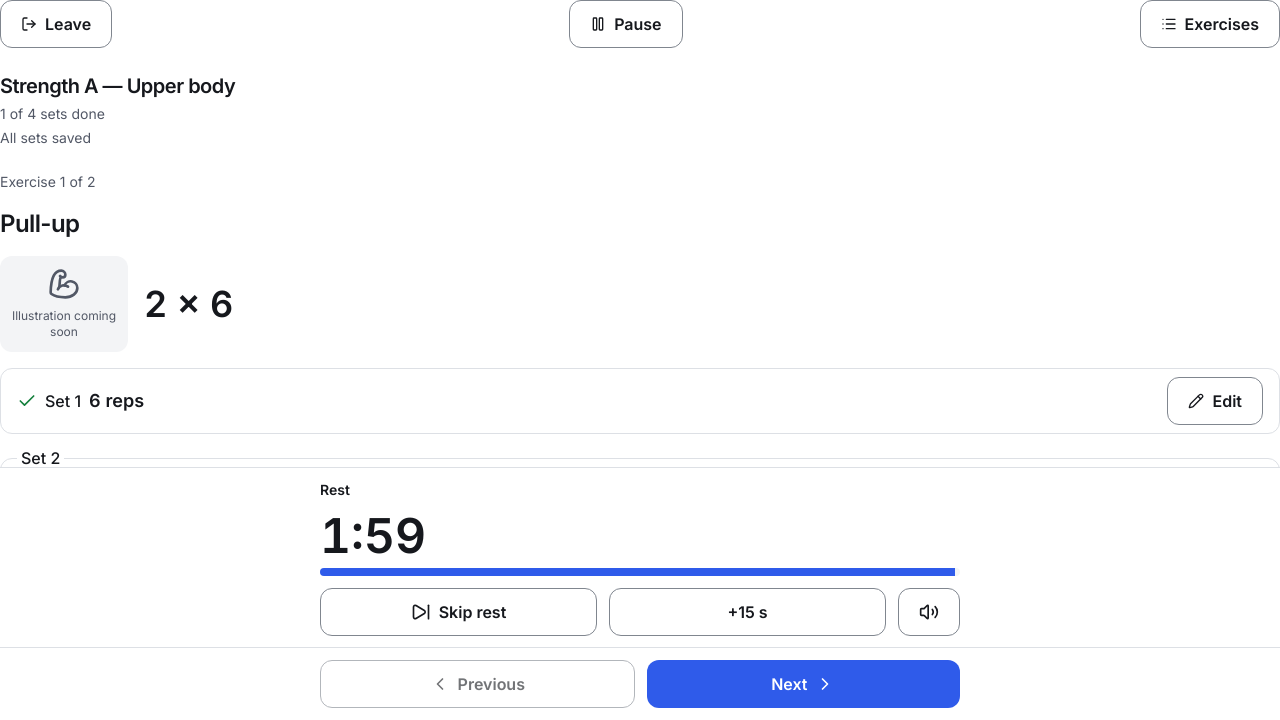
Test: WorkoutScreen through the outbox (P4-05, D89) › D104: a finish kept apart by the server says why
What coordinates should you click on to do the following:
click the button "Leave"
I would click on:
 (56, 24)
Its box is x1=0 y1=0 x2=112 y2=48.
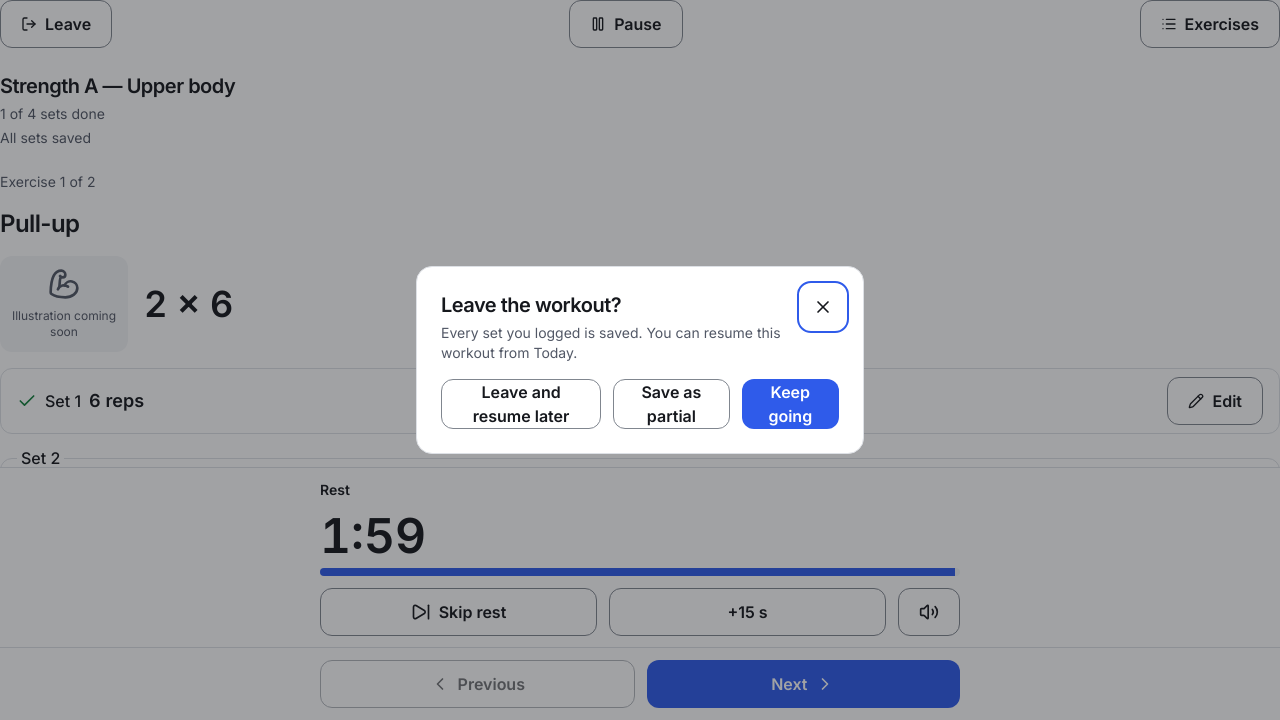
What coordinates should you click on to do the following:
click the button "Save as partial"
I would click on:
 (671, 404)
Its box is x1=613 y1=379 x2=730 y2=429.
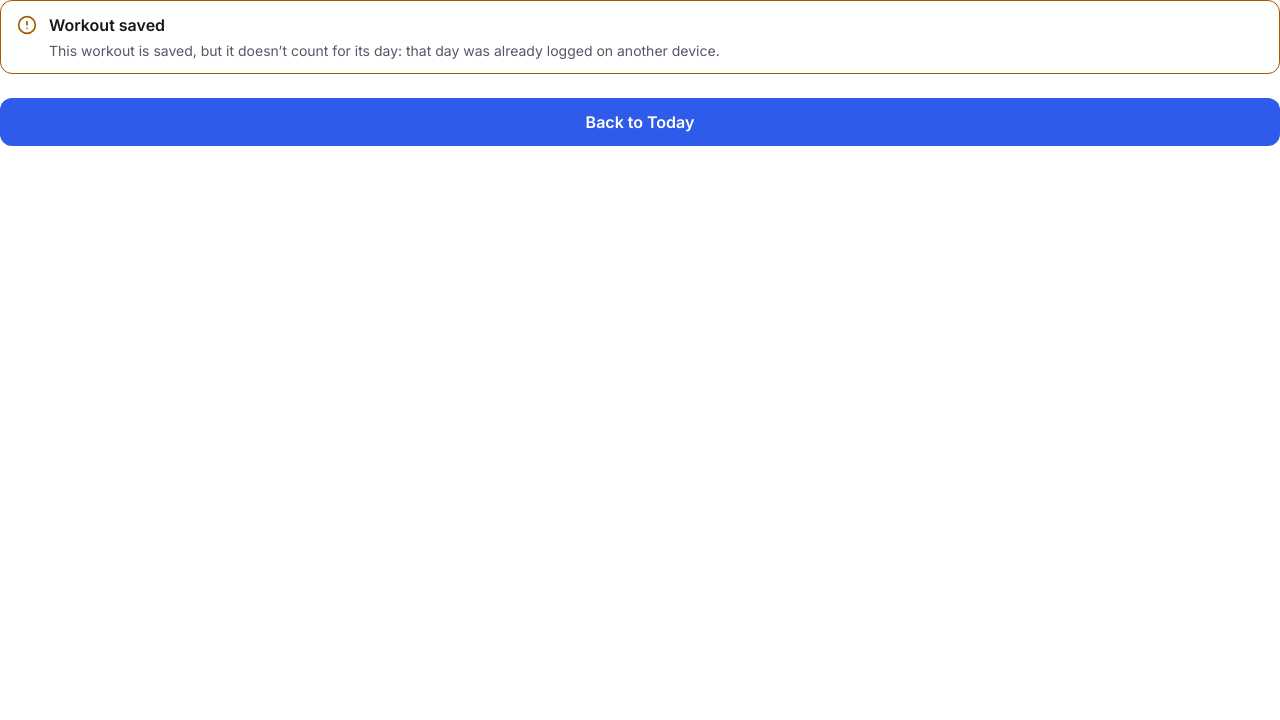
Now the text "doesn’t count for its day" is shown, box x1=49 y1=42 x2=720 y2=59
